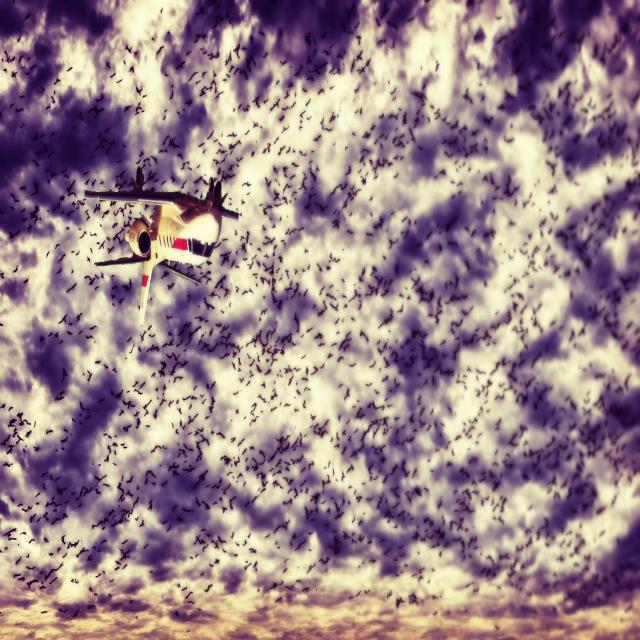airplane: (84, 170, 240, 327)
